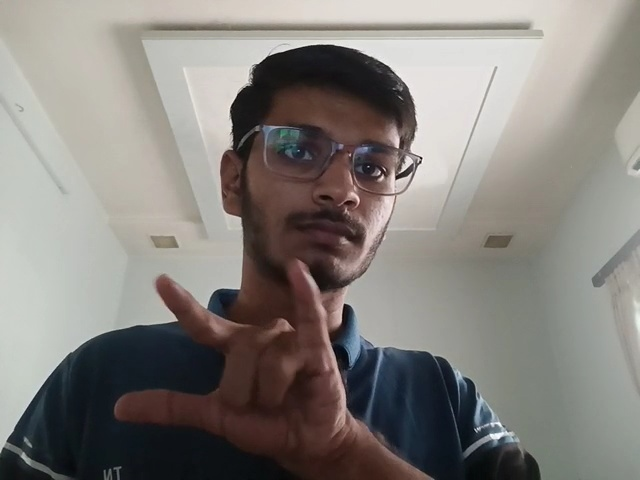I Love You: (109, 258, 384, 468)
